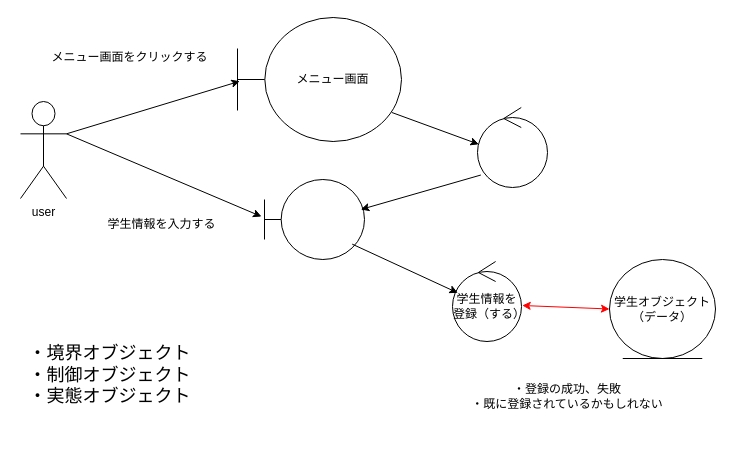
This 733x450 diagram has some shape labels left out. Here are the shapes that lost their labels. From the top down, the centre of each, then its label:
At (x=512, y=147): "表示（する）".
At (x=314, y=219): "学生登録画面".
